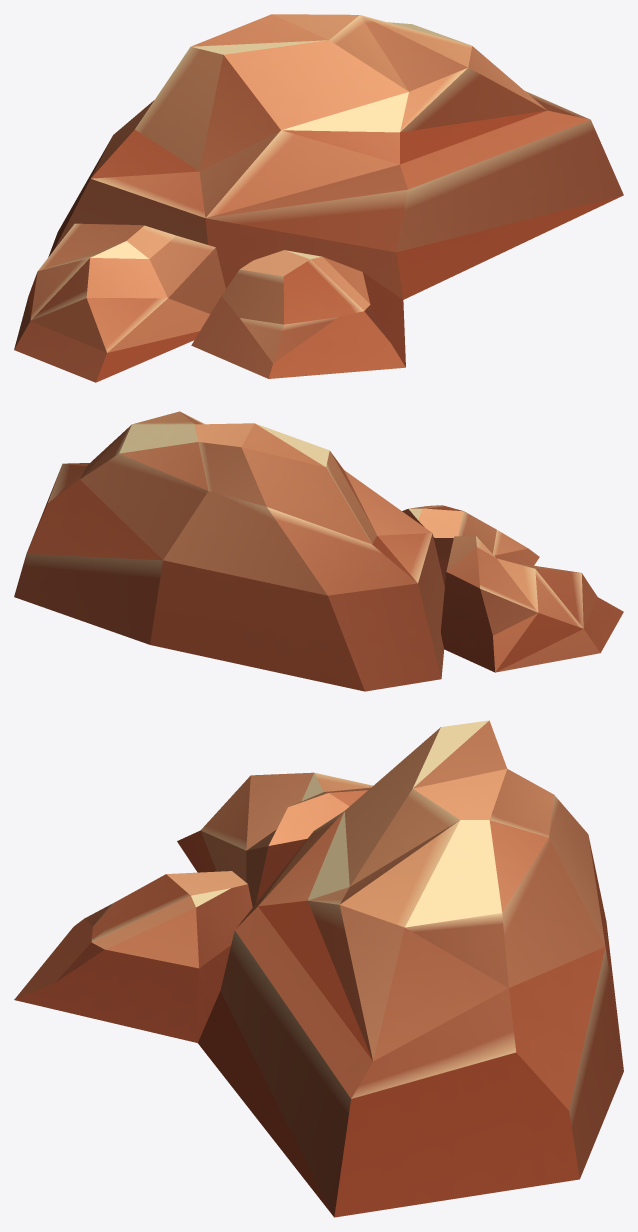
File: DesertMountain_03.fbx
3 renders of one model, top to bottom at view 1: azimuth 30°, elevation 25°; view 2: azimuth 150°, elevation 25°; view 3: azimuth 270°, elevation 25°, orthographic. The views are drawn at different scales.
Visible parts, largest first — view 1: DesertMountain_03; view 2: DesertMountain_03; view 3: DesertMountain_03.
Part boxes in pixels (box(x1,y1,x2,y2)): DesertMountain_03: box(14, 14, 623, 382); DesertMountain_03: box(14, 411, 623, 691); DesertMountain_03: box(14, 720, 623, 1217).
Size of the model in its own units: 9873 by 3104 by 6458.
